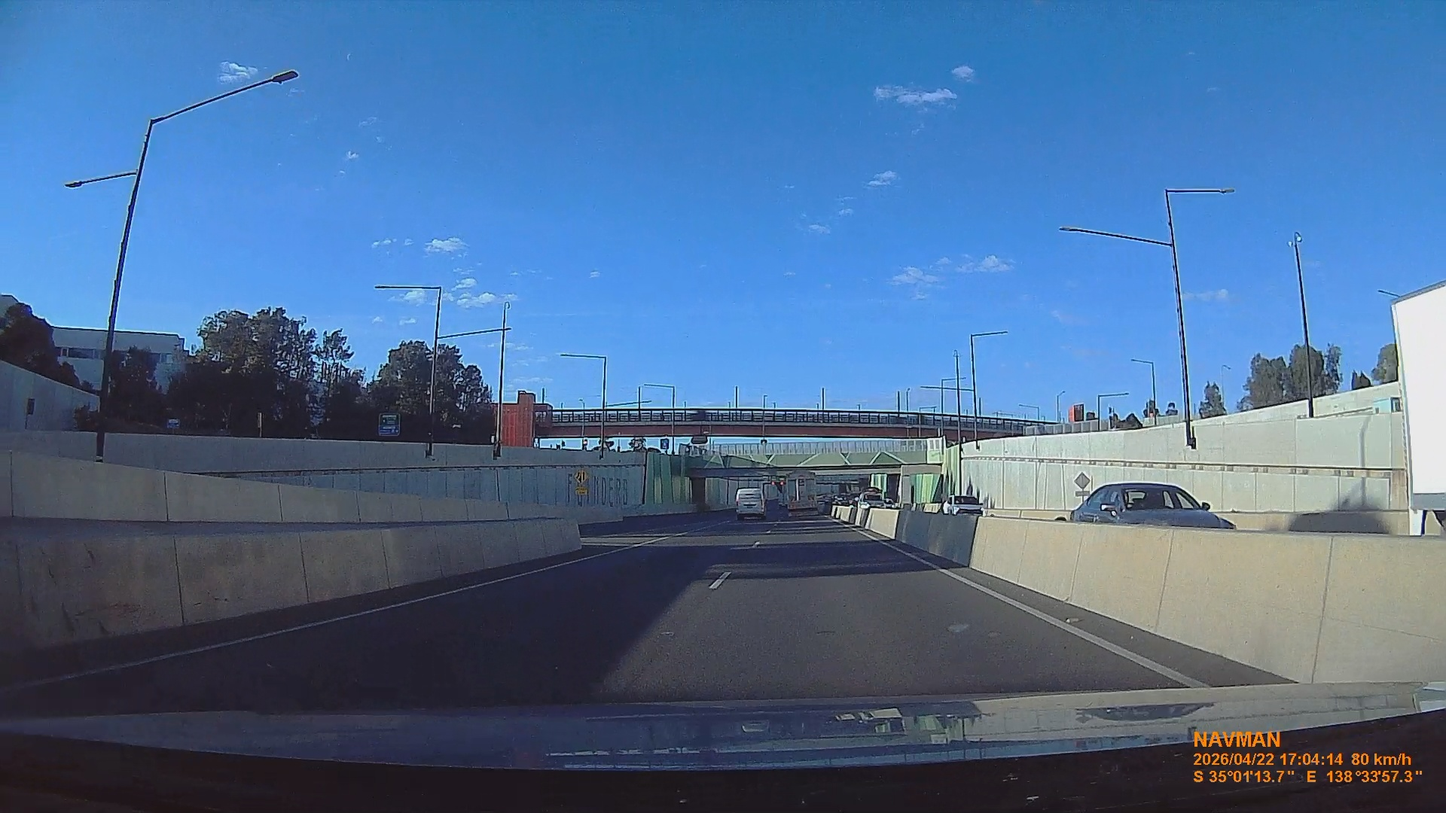road barriers: (868, 505, 1444, 683), (0, 519, 580, 650), (2, 445, 586, 519)
